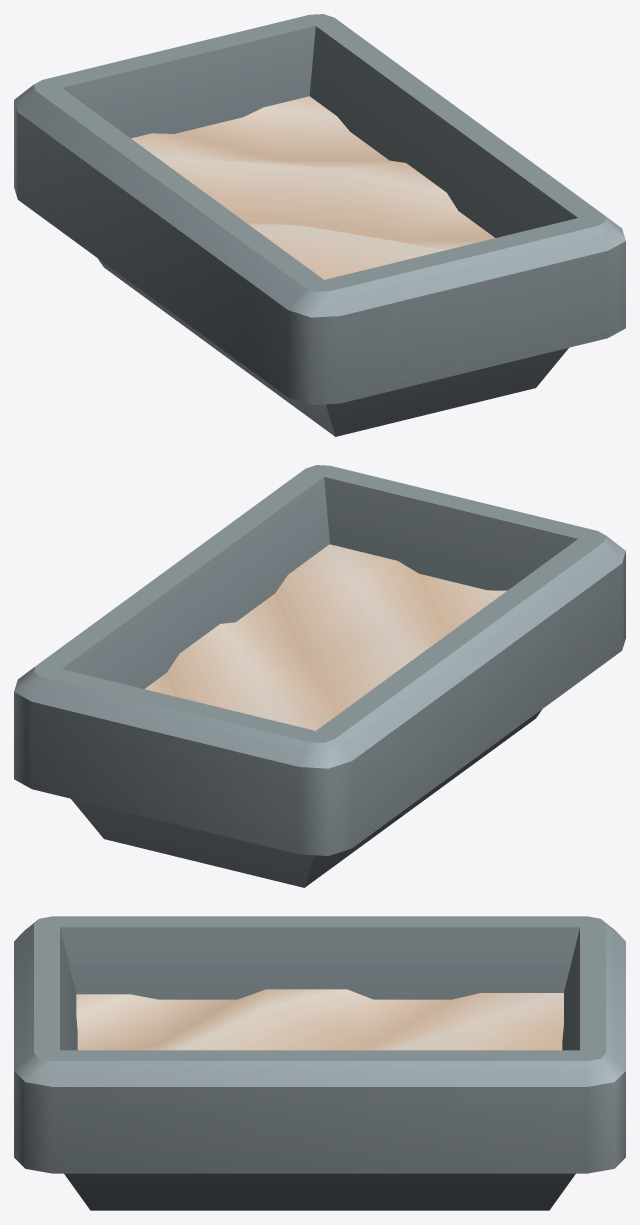
File: ic_c_counter.glb
3 renders of one model, top to bottom at view 1: azimuth 30°, elevation 25°; view 2: azimuth 150°, elevation 25°; view 3: azimuth 270°, elevation 25°, orthographic.
Parts seen in each view (by area): view 1: icecream_container, icecream_container_icecream_vanilla; view 2: icecream_container, icecream_container_icecream_vanilla; view 3: icecream_container, icecream_container_icecream_vanilla.
Part boxes in pixels (<box>): icecream_container: <box>14,14,625,436</box>; icecream_container_icecream_vanilla: <box>131,96,494,279</box>; icecream_container: <box>14,465,625,887</box>; icecream_container_icecream_vanilla: <box>145,544,506,730</box>; icecream_container: <box>14,916,625,1210</box>; icecream_container_icecream_vanilla: <box>76,989,563,1050</box>.
Bounding box in the file's own units: 1.4 × 0.7 × 2.24.
Materials: 2 (2 with a texture image).
